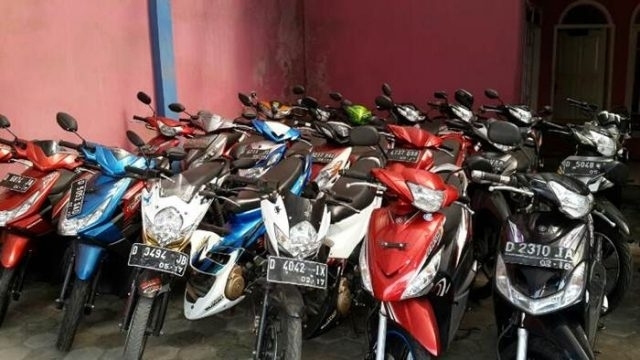plate: (506, 240, 573, 271), (267, 254, 327, 287), (132, 243, 185, 275), (564, 159, 605, 176), (2, 174, 35, 191), (385, 146, 418, 163), (71, 179, 85, 215), (239, 147, 272, 162)
